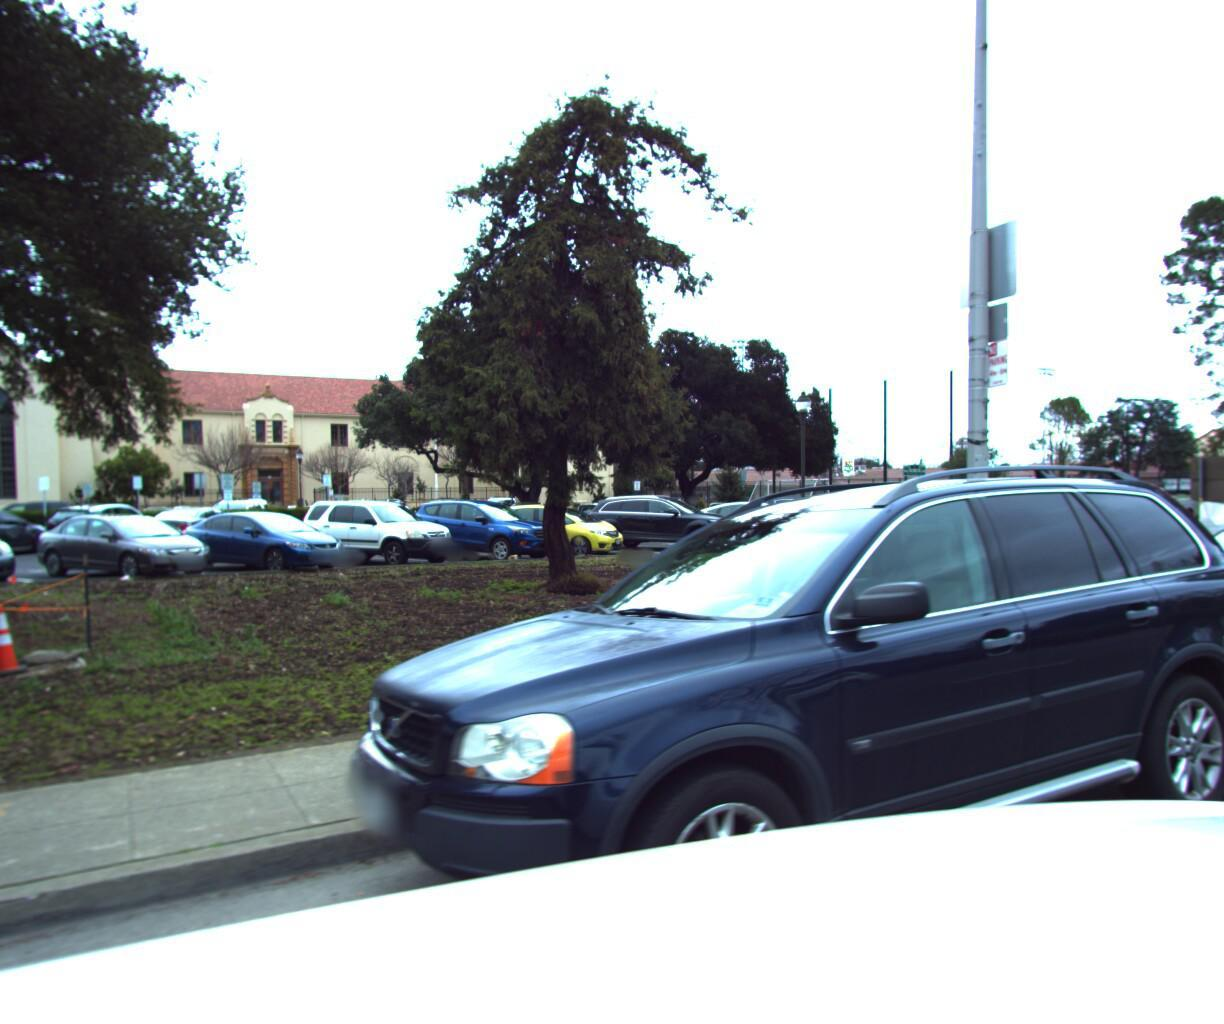car: (298, 460, 1224, 1024), (1078, 500, 1224, 774)
